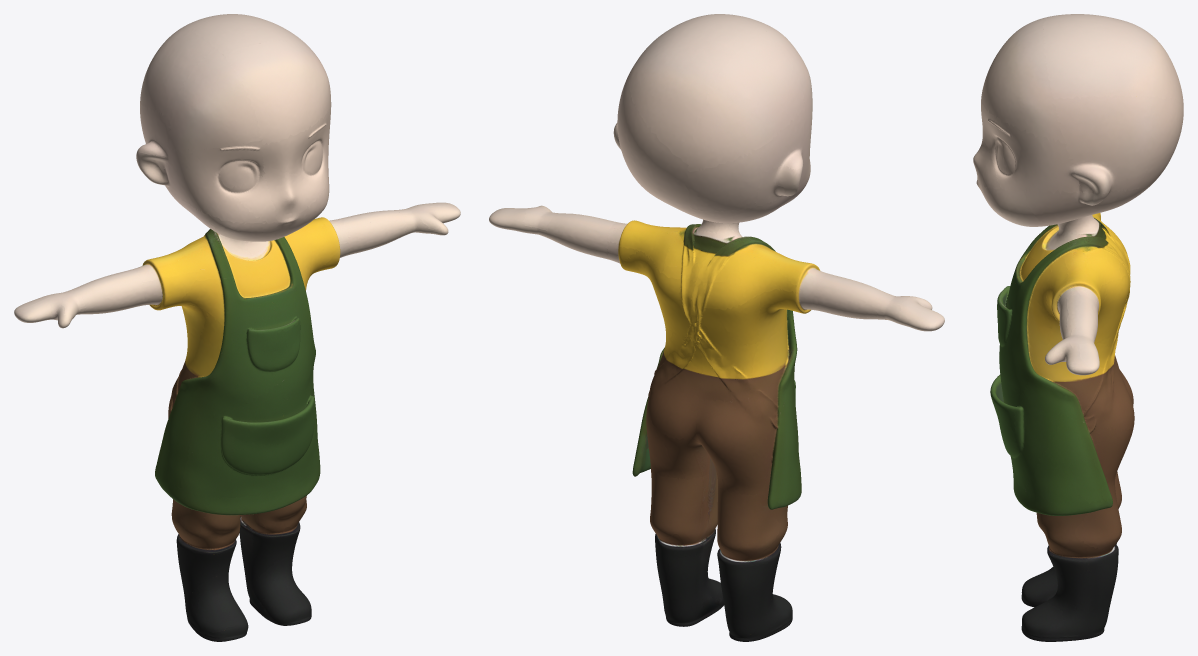
The model's file is baked_noutfit_garden.glb.
The picture shows the model from 3 angles, left to right: view 1: azimuth 30°, elevation 25°; view 2: azimuth 150°, elevation 25°; view 3: azimuth 270°, elevation 25°; orthographic projection. The views are drawn at different scales.
Size of the model in its own units: 1.49 by 1.9 by 0.6119.
Materials: 1 (1 with a texture image).
